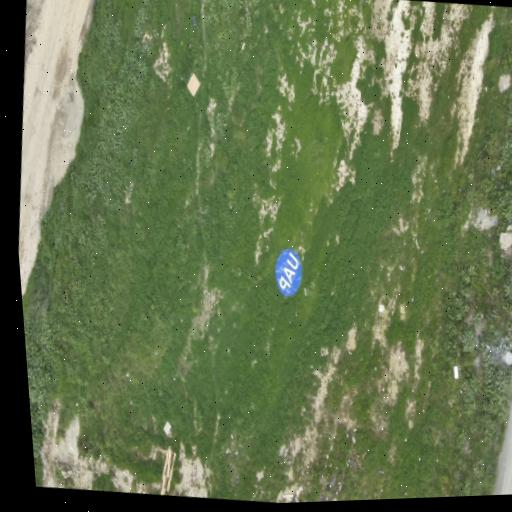uap: (274, 248, 301, 295)
